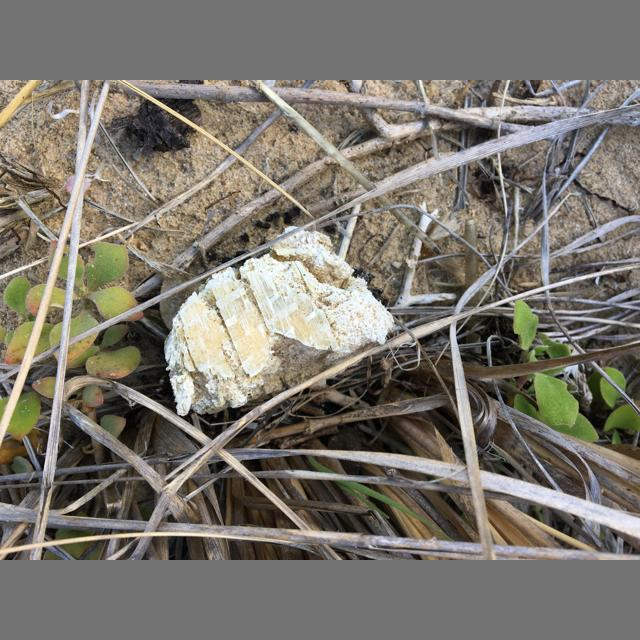litter: (165, 230, 395, 416)
